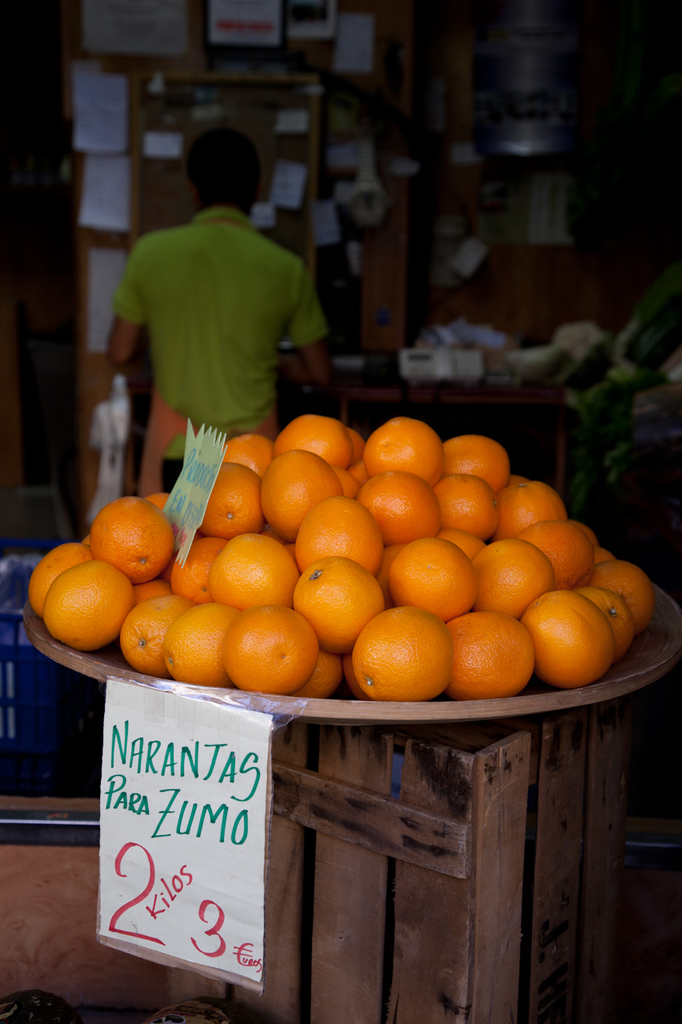Ripe: (214, 608, 321, 691), (356, 610, 460, 690), (441, 610, 544, 690), (39, 550, 124, 637), (533, 594, 625, 663), (265, 447, 328, 535), (518, 521, 599, 588), (298, 510, 375, 579), (572, 579, 644, 651), (309, 577, 377, 651), (486, 537, 555, 603), (602, 553, 656, 637), (111, 510, 181, 572), (224, 542, 298, 600), (277, 408, 351, 466), (404, 550, 470, 610), (208, 468, 269, 531), (370, 415, 425, 482), (375, 474, 435, 535), (441, 431, 498, 493), (449, 477, 507, 537), (512, 482, 562, 537), (180, 547, 217, 600)
